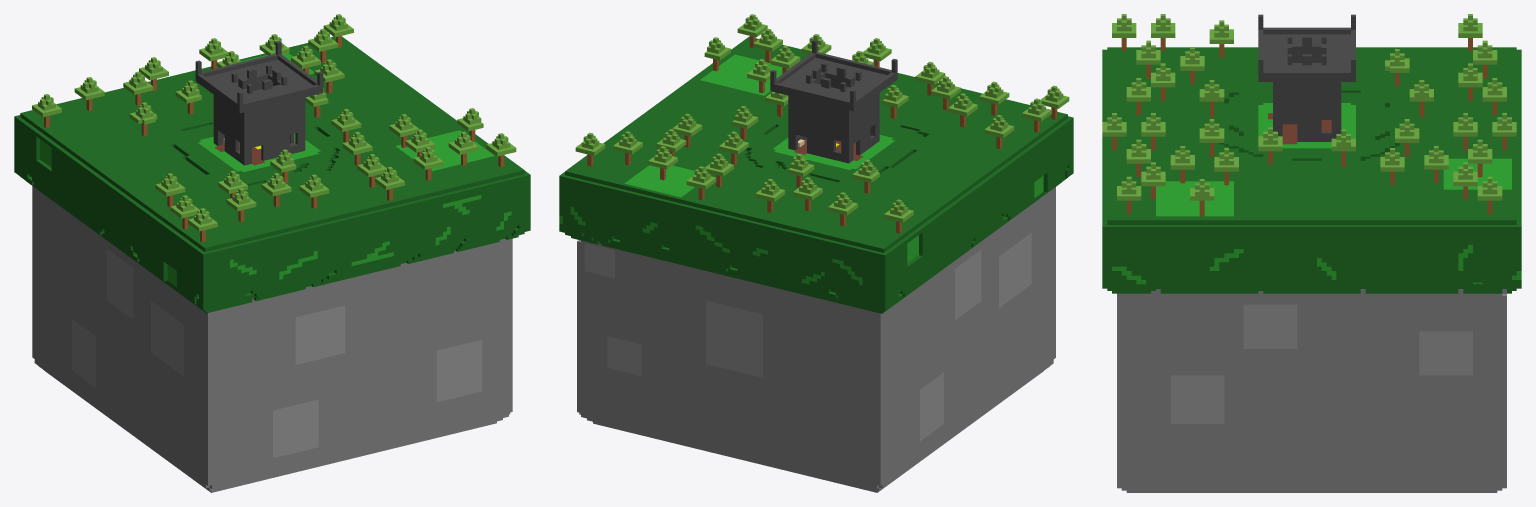
The model's file is island5.obj.
3 renders of one model, left to right at view 1: azimuth 30°, elevation 25°; view 2: azimuth 150°, elevation 25°; view 3: azimuth 270°, elevation 25°, orthographic. The views are drawn at different scales.
Size of the model in its own units: 8.6 by 8.4 by 8.6.
Materials: 1 (1 with a texture image).
